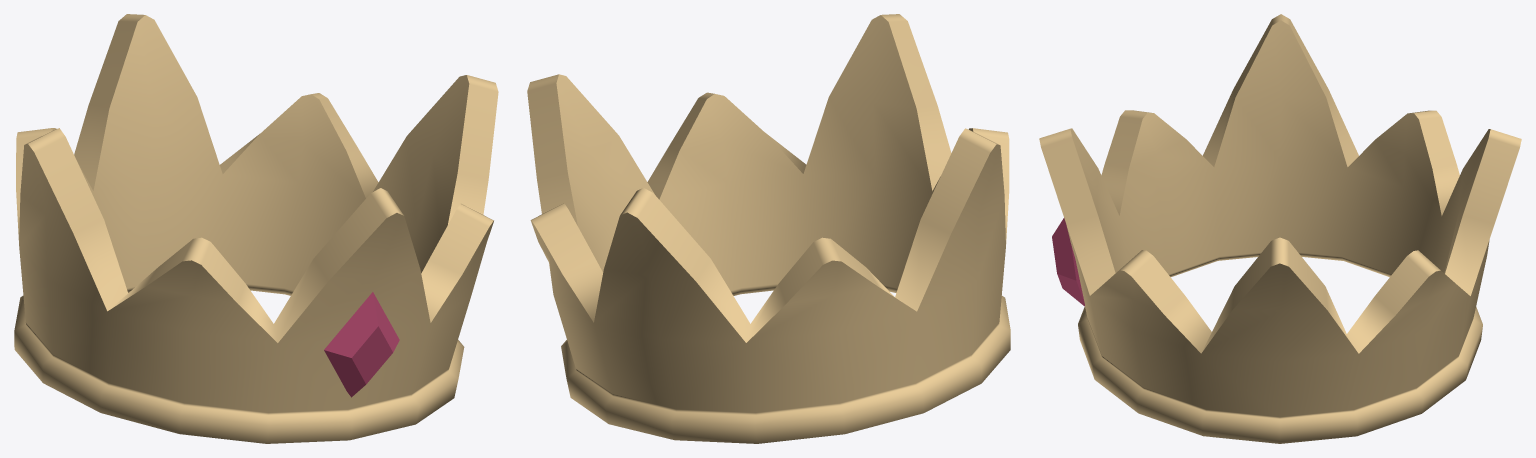
Rendered from crown.fbx.
3 views of the same model, side by side, from view 1: azimuth 30°, elevation 25°; view 2: azimuth 150°, elevation 25°; view 3: azimuth 270°, elevation 25° (orthographic). The views are drawn at different scales.
Parts seen in each view (by area): view 1: pasted__polySurface1, pasted__pCube1; view 2: pasted__polySurface1; view 3: pasted__polySurface1, pasted__pCube1.
Boxes of the visible parts, x1=… form: pasted__polySurface1: x1=14, y1=14, x2=498, y2=443; pasted__pCube1: x1=324, y1=292, x2=399, y2=397; pasted__polySurface1: x1=527, y1=14, x2=1010, y2=443; pasted__polySurface1: x1=1039, y1=14, x2=1521, y2=443; pasted__pCube1: x1=1052, y1=218, x2=1084, y2=306.
Size of the model in its own units: 0.927 by 0.5644 by 0.9323.
